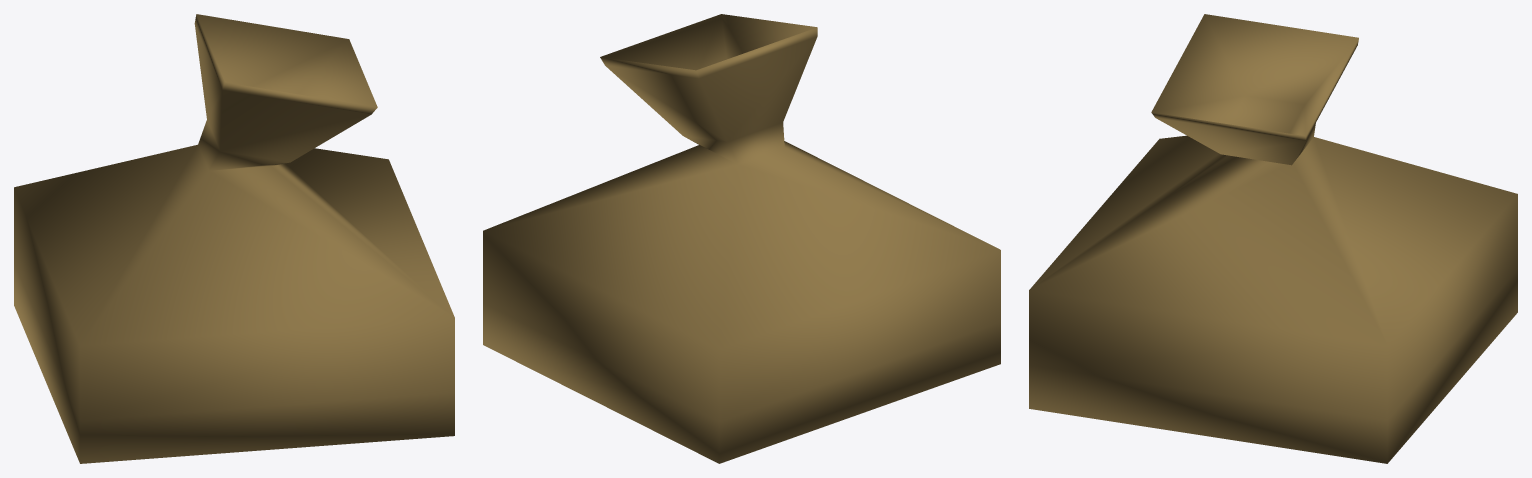
File: moneybag.gltf
3 views of the same model, side by side, from view 1: azimuth 30°, elevation 25°; view 2: azimuth 150°, elevation 25°; view 3: azimuth 270°, elevation 25° (orthographic). The views are drawn at different scales.
Parts seen in each view (by area): view 1: Cube; view 2: Cube; view 3: Cube.
Boxes of the visible parts, bbox=[...] form: Cube: bbox=[14, 14, 454, 463]; Cube: bbox=[483, 14, 1000, 463]; Cube: bbox=[1029, 14, 1517, 463].
Bounding box in the file's own units: 4 × 2.93 × 4.
